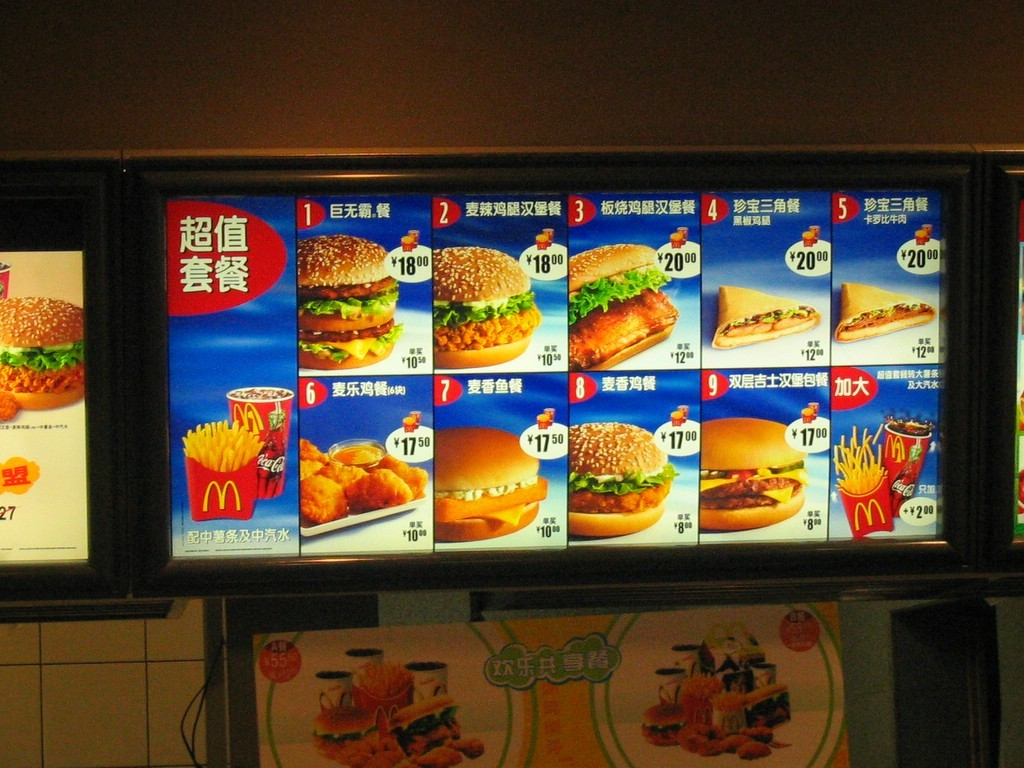Hamburger: (296, 234, 401, 372), (568, 242, 677, 370), (437, 427, 547, 544), (568, 420, 677, 538), (435, 247, 540, 367), (698, 417, 805, 531), (0, 297, 83, 408), (312, 708, 373, 756), (641, 699, 684, 746)
